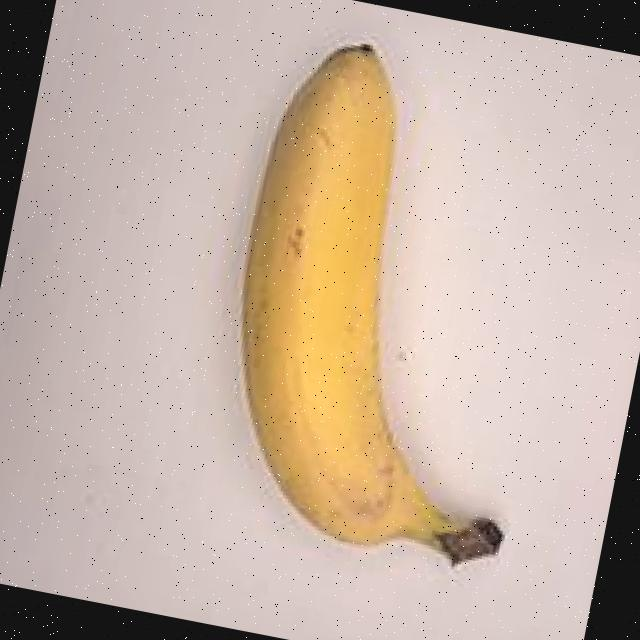Ripe: (137, 0, 622, 610)
